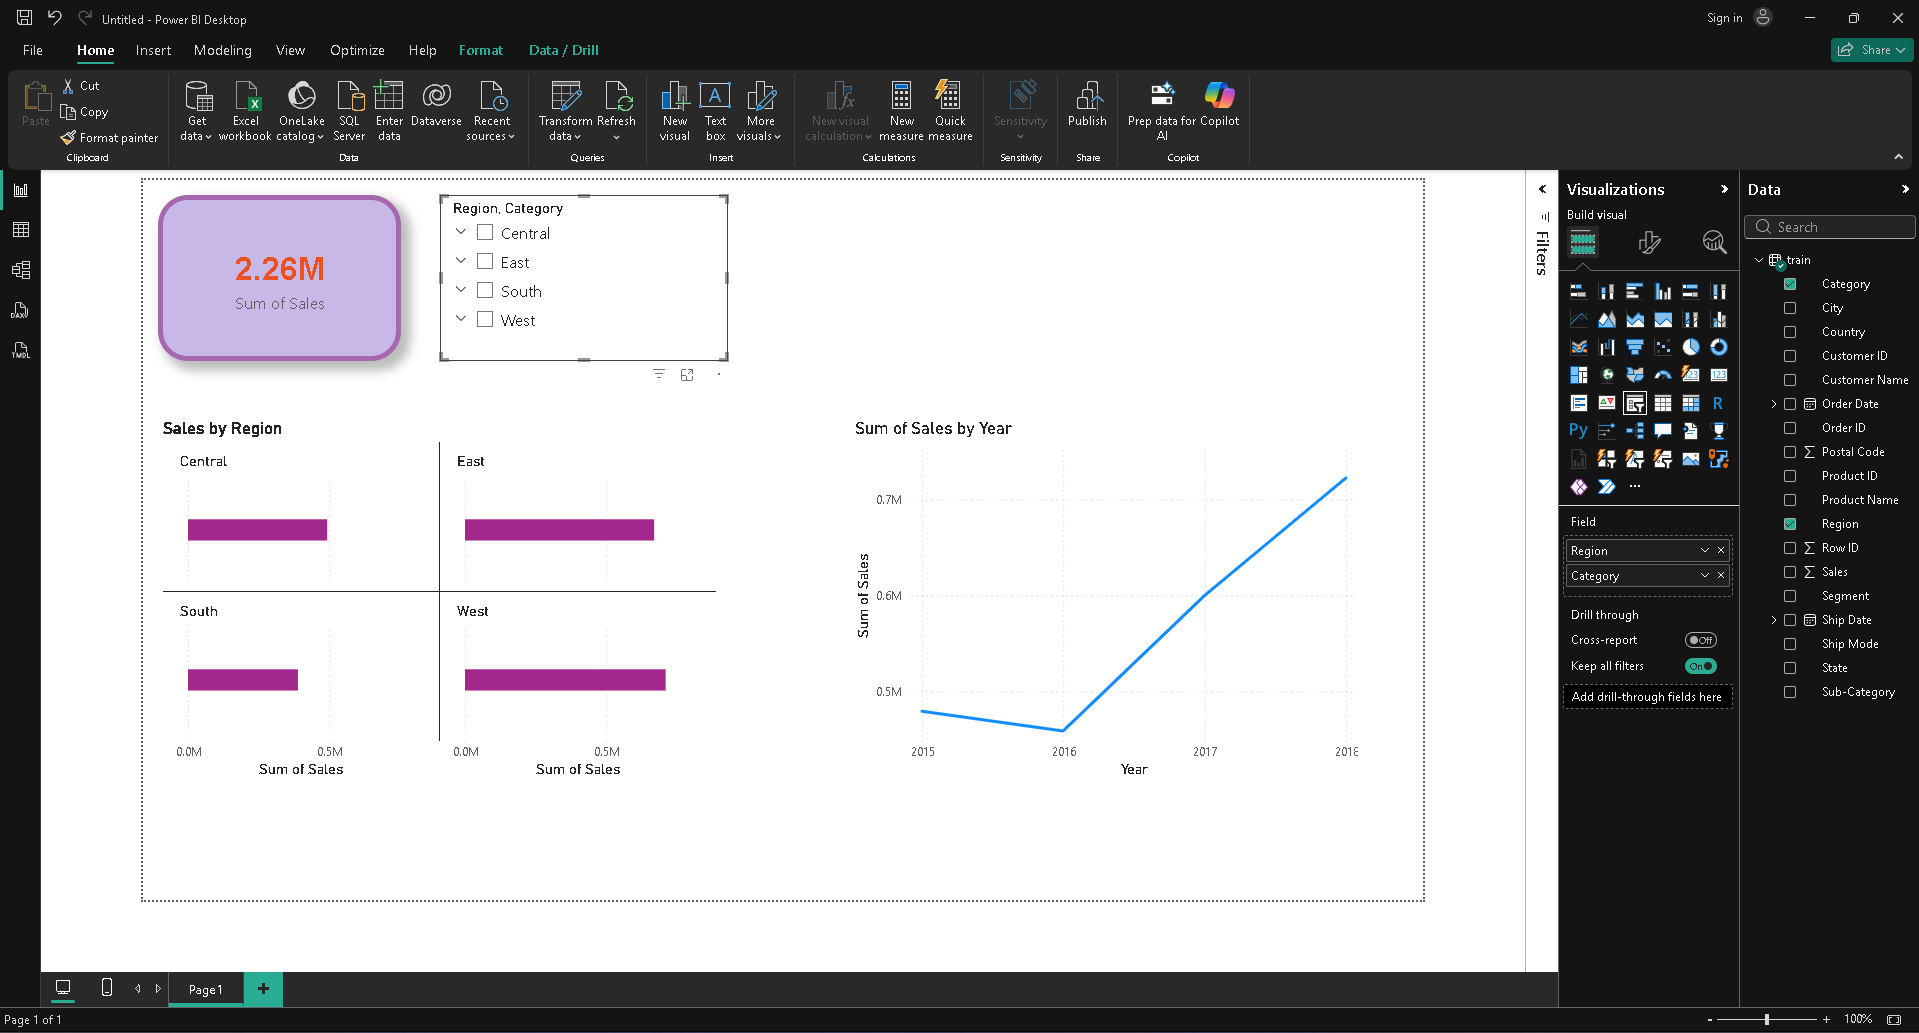

The page's visual inventory and layout, read from the dashboard file:
{"tool":"powerbi","page":{"name":"Page 1","canvas":[1280,720],"ordinal":0},"visuals":[{"type":"card","fields":{"Values":["Sum(train.Sales)"]},"box":[14.5,14.5,243.9,166.9],"z":0},{"type":"barChart","title":"Sales by Region","fields":{"Y":["Sum(train.Sales)"],"Rows":["train.Region"]},"box":[15.4,238.5,562.2,363.6],"z":1000},{"type":"lineChart","fields":{"Category":["train.Order Date.Variation.Date Hierarchy.Year","train.Order Date.Variation.Date Hierarchy.Quarter","train.Order Date.Variation.Date Hierarchy.Month","train.Order Date.Variation.Date Hierarchy.Day"],"Y":["Sum(train.Sales)"]},"box":[707.3,238.5,512.3,363.6],"z":2001},{"type":"slicer","fields":{"Values":["train.Region","train.Category"]},"box":[296.5,14.5,288.4,166.9],"z":2002}]}

Visuals, with their boxes on the page's 1280x720 design canvas (x1, y1, x2, y2). These are canvas units, not pixel positions in the 1919x1033 screenshot, which may show the page scaled, cropped or inside an application window:
card - Sum(train.Sales): crop(14, 14, 258, 181)
"Sales by Region" barChart: crop(15, 238, 578, 602)
lineChart - train.Order Date.Variation.Date Hierarchy.Year x train.Order Date.Variation.Date Hierarchy.Quarter: crop(707, 238, 1220, 602)
slicer - train.Region x train.Category: crop(296, 14, 585, 181)
